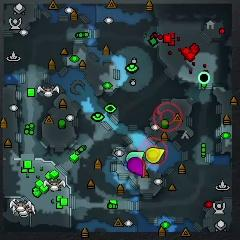p2: (126, 151, 145, 159)
p2Clone: (198, 71, 211, 83)
p3: (127, 156, 143, 176)
p4: (147, 147, 165, 162)
p5: (141, 159, 146, 178)
